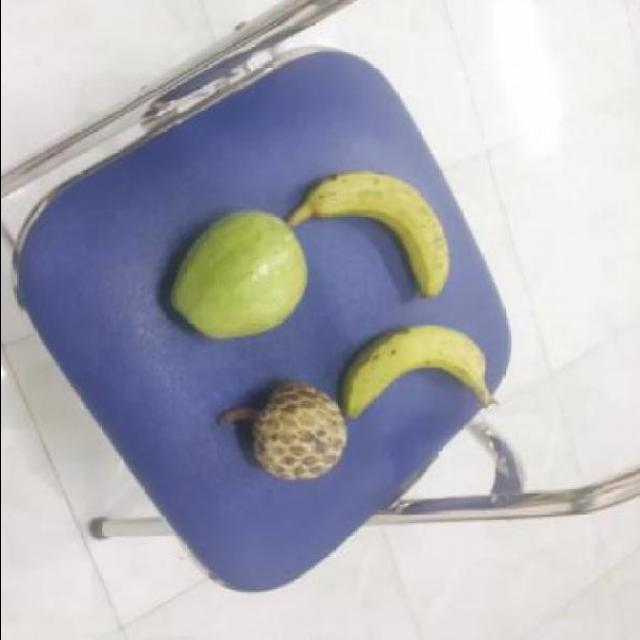banana: (301, 162, 454, 298), (340, 320, 489, 420)
guava: (169, 204, 305, 344)
sugar apple: (246, 378, 346, 482)
